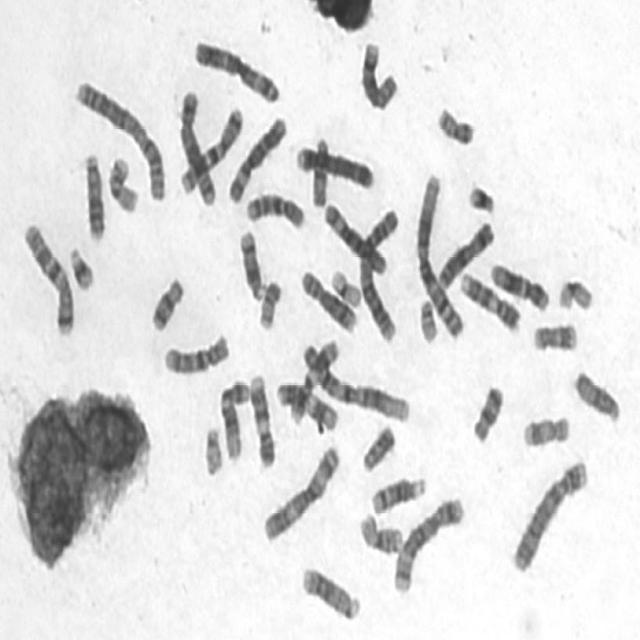A1: (298, 335, 413, 424), (412, 168, 466, 342)
A2: (71, 75, 168, 204), (356, 201, 402, 345)
A3: (259, 439, 342, 545), (190, 33, 282, 105)
B4: (508, 454, 590, 576), (292, 140, 376, 192)
B5: (389, 490, 466, 596), (175, 84, 217, 209)
C10: (160, 328, 231, 378), (242, 186, 306, 232)
C11: (284, 334, 340, 425), (272, 375, 340, 433)
C12: (486, 256, 550, 313), (216, 374, 251, 462)
C6: (224, 111, 289, 206), (321, 198, 389, 276)
C7: (20, 217, 76, 339), (177, 102, 244, 196)
C8: (297, 265, 359, 335), (356, 37, 399, 112)
C9: (457, 267, 522, 335), (246, 370, 277, 470)
D13: (298, 562, 362, 623), (80, 148, 107, 242)
D14: (367, 470, 428, 517), (236, 225, 266, 302)
D15: (571, 364, 623, 426), (309, 130, 330, 210)
E16: (356, 507, 404, 557), (105, 151, 140, 215)
E17: (519, 410, 572, 450), (530, 318, 579, 355)
E18: (147, 272, 186, 334), (468, 380, 504, 445)
F19: (555, 273, 594, 313), (328, 264, 362, 308)
F20: (433, 101, 476, 148), (256, 276, 283, 332)
G21: (65, 240, 96, 294), (465, 179, 497, 216)
G22: (201, 420, 224, 478), (415, 293, 440, 345)
X: (434, 216, 497, 291)
Y: (359, 420, 397, 474)
